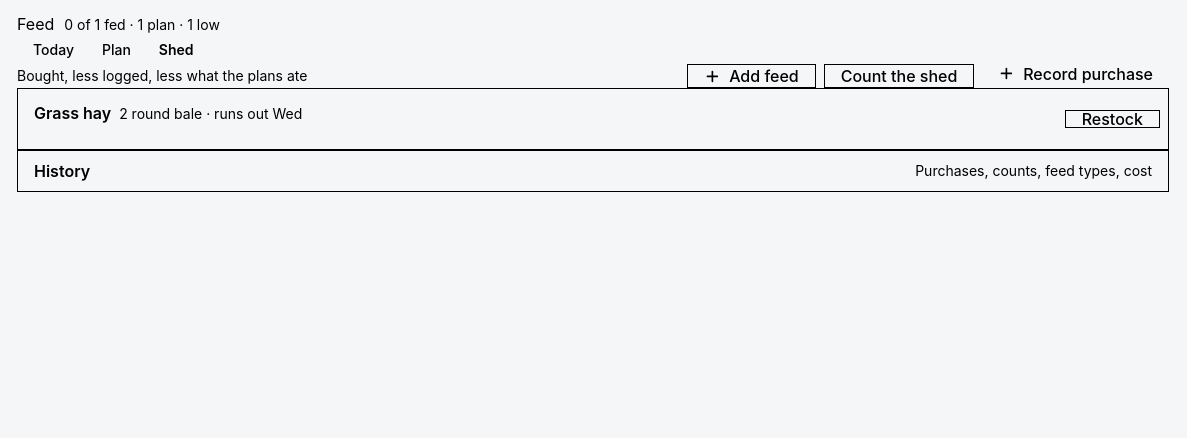
Test: Farm › Feed › Shed › says an unpriced purchase has no price, and counts it in the shed
Expected: the text "2 round bale · runs out Wed" is shown, [119,104,302,124]
Click the heading "History" at [62, 171], box [34,161,1152,181]
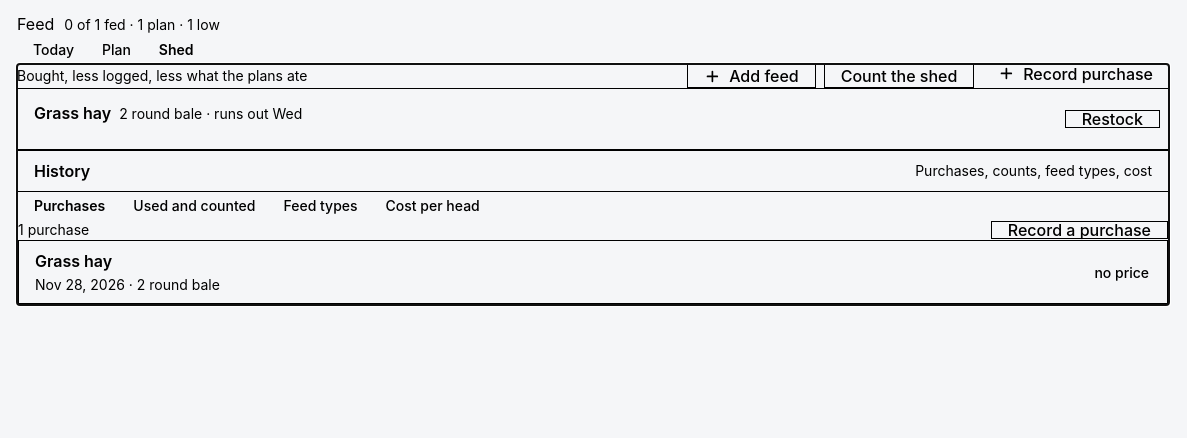
Expected: the text "no price" is shown, [1094,264,1149,280]
Click the tab "Cost per head" at [433, 206], box [374,196,492,216]
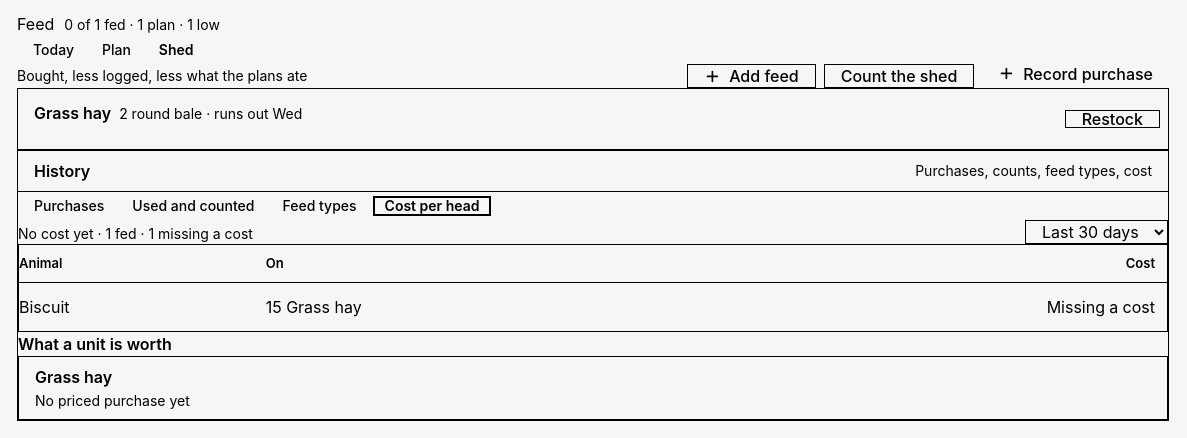
Expected: the text "No cost yet · 1 fed · 1 missing a cost" is shown, [18,224,253,244]
